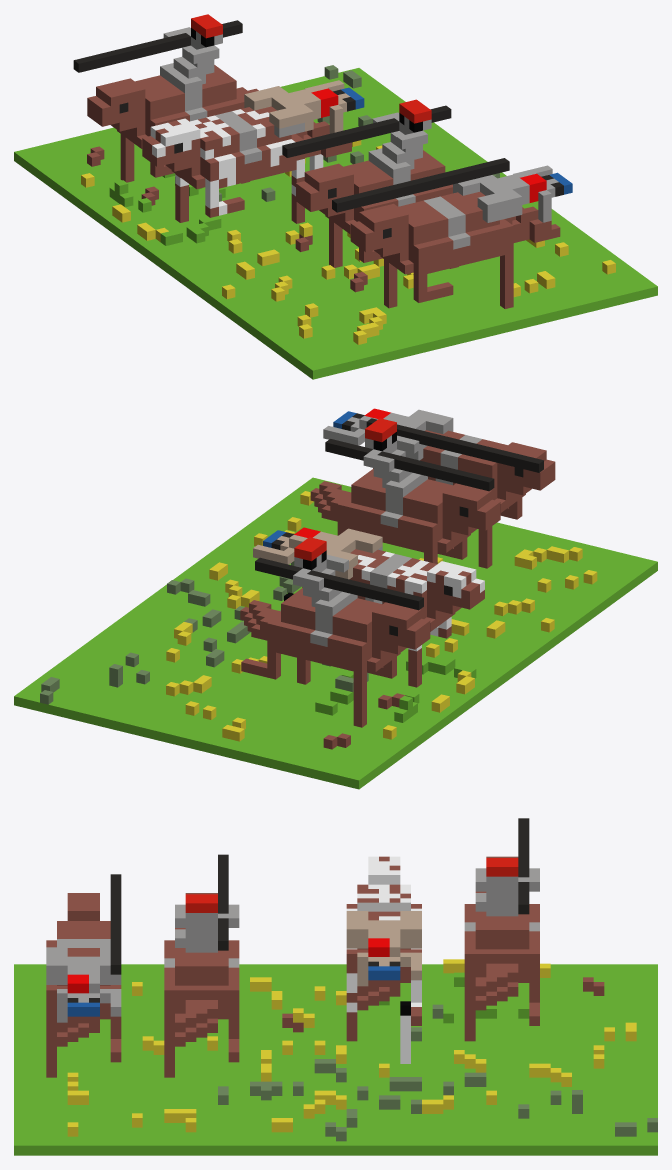
File: tartar_engage_cossacks-4.obj
The picture shows the model from 3 angles, top to bottom: view 1: azimuth 30°, elevation 25°; view 2: azimuth 150°, elevation 25°; view 3: azimuth 270°, elevation 25°; orthographic projection. The views are drawn at different scales.
Bounding box in the file's own units: 4 × 1.8 × 6.
1 material, 1 textured.
